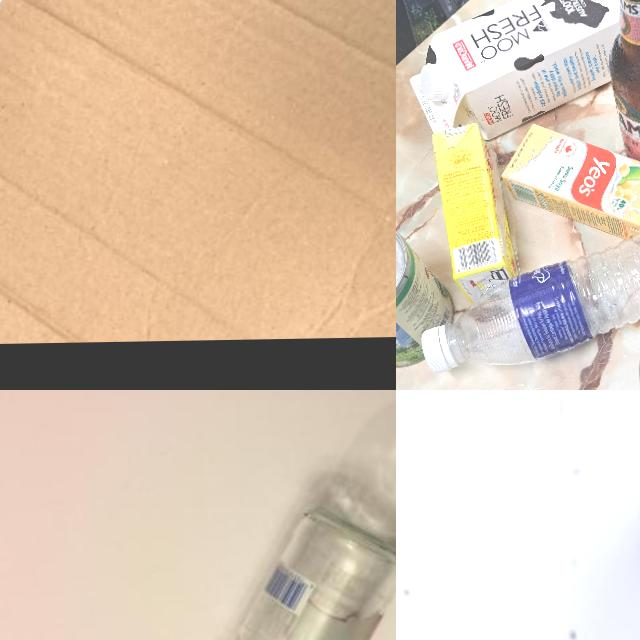caixinha: (406, 0, 640, 140), (498, 120, 640, 250), (430, 121, 517, 302)
garrafa de vidro: (167, 509, 396, 640), (607, 0, 640, 174)
garrafa plástica: (447, 223, 640, 365)
lata: (396, 225, 453, 365)
papelão: (0, 0, 396, 345)
tampa plástica: (418, 326, 451, 374), (418, 64, 444, 101)
